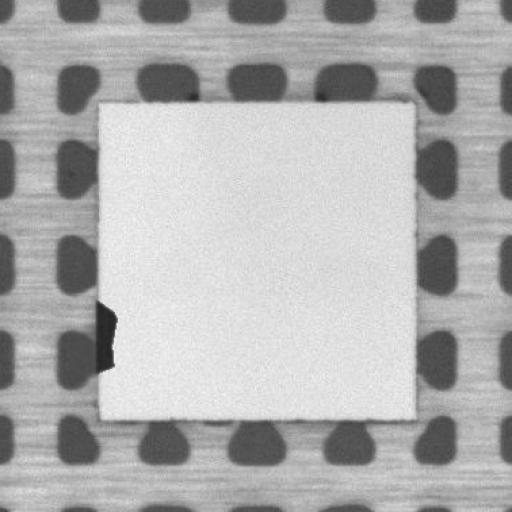DIE_BROKEN: (90, 298, 119, 381)
